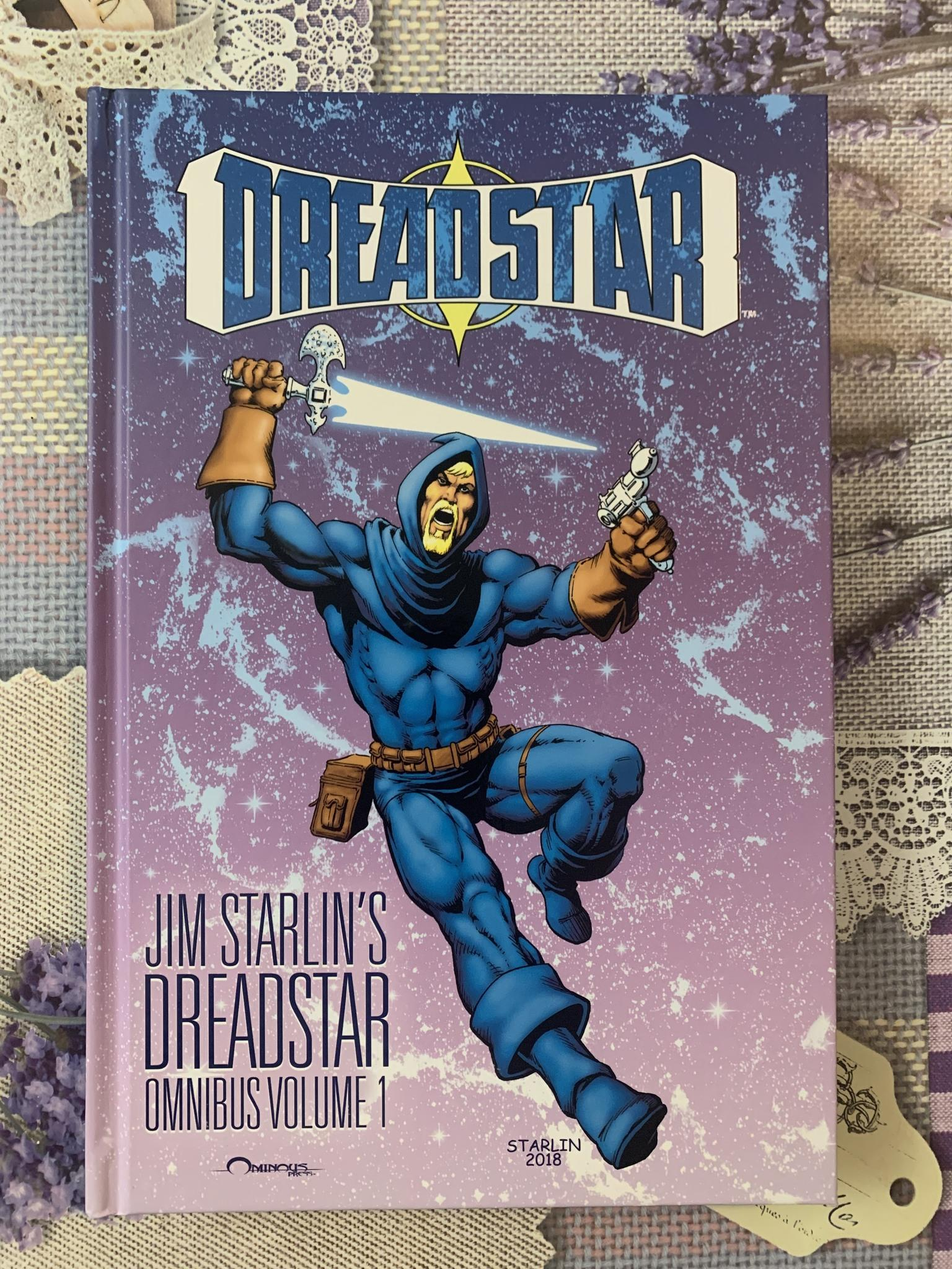comic: (87, 91, 835, 1214)
